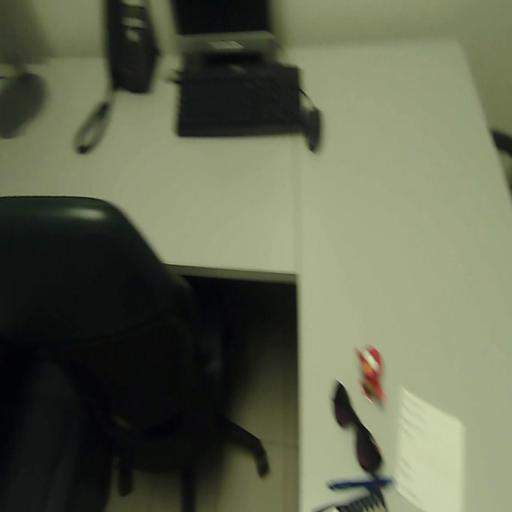pen: (326, 479, 374, 490), (377, 477, 393, 486)
